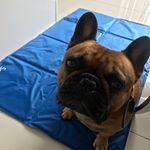puppy: (53, 7, 149, 150)
